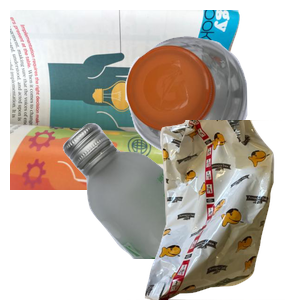glass: (60, 120, 300, 300)
paper: (10, 10, 250, 190)
plastic: (123, 33, 300, 181)
trash: (127, 120, 300, 300)
